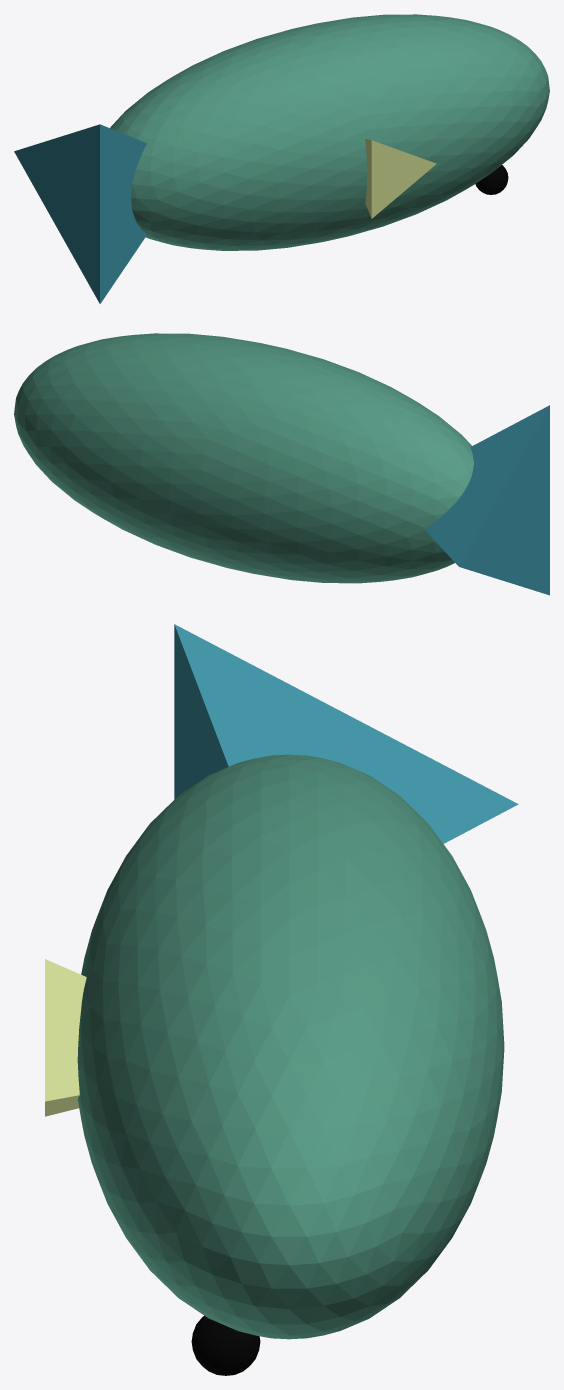
File: pez_vertebrado.glb
The picture shows the model from 3 angles, top to bottom: view 1: azimuth 30°, elevation 25°; view 2: azimuth 150°, elevation 25°; view 3: azimuth 270°, elevation 25°; orthographic projection. The views are drawn at different scales.
Parts seen in each view (by area): view 1: world; view 2: world; view 3: world.
Boxes of the visible parts, bbox=[...] form: world: bbox=[14, 14, 549, 303]; world: bbox=[14, 333, 549, 595]; world: bbox=[45, 624, 518, 1375].
Size of the model in its own units: 3.8 by 1.5 by 1.65.
